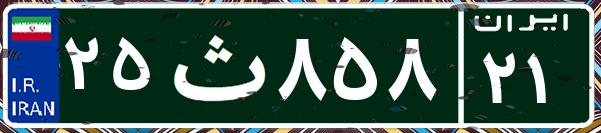1: (525, 38, 570, 115)
2: (57, 26, 110, 107), (475, 38, 525, 113)
5: (330, 28, 385, 110), (110, 28, 158, 105)
8: (385, 28, 445, 110), (273, 28, 330, 110)
ث: (158, 15, 273, 115)
